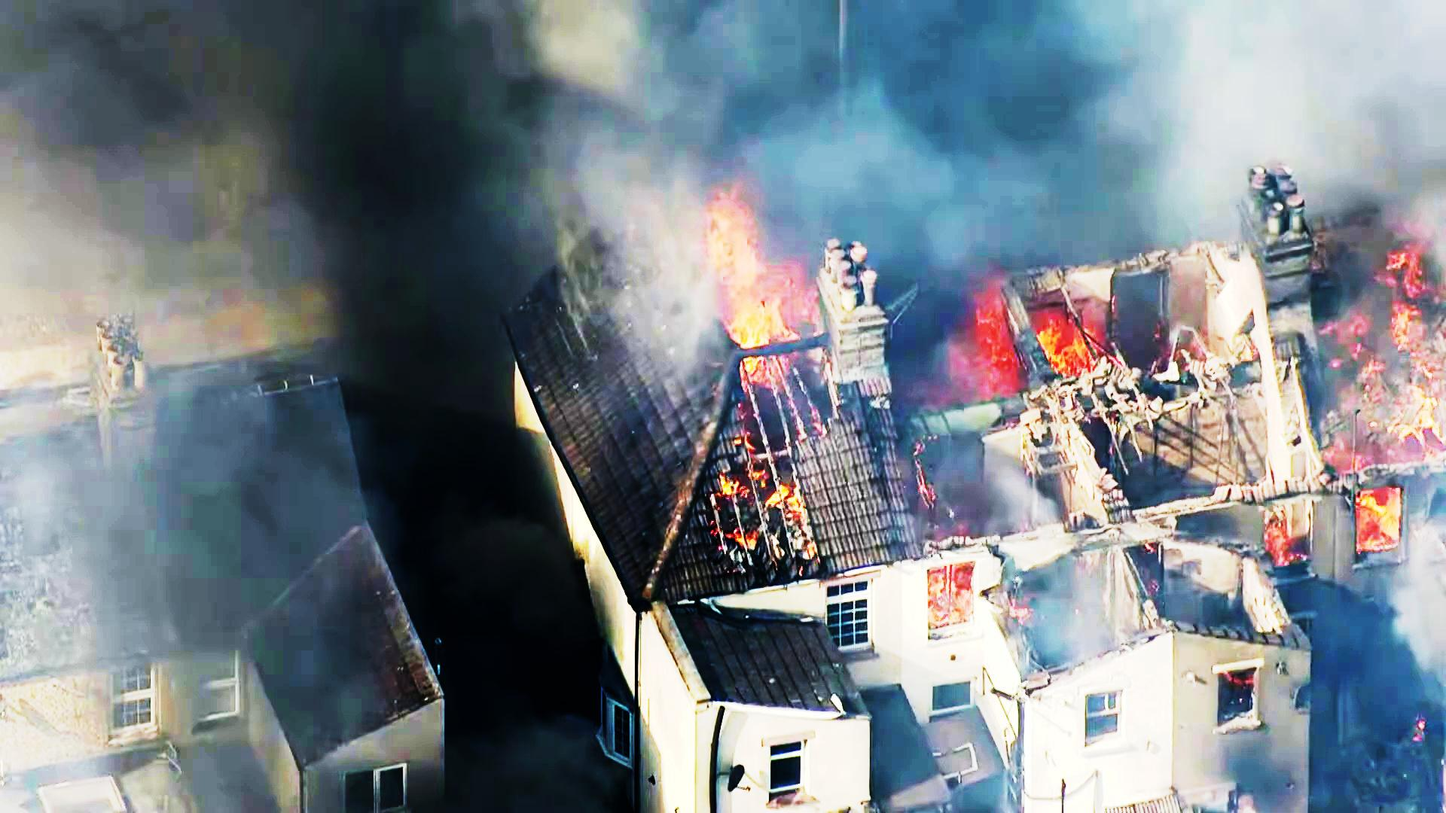fire: (1309, 243, 1446, 463), (684, 196, 823, 371), (959, 298, 1084, 381)
smoke: (0, 0, 545, 283)
